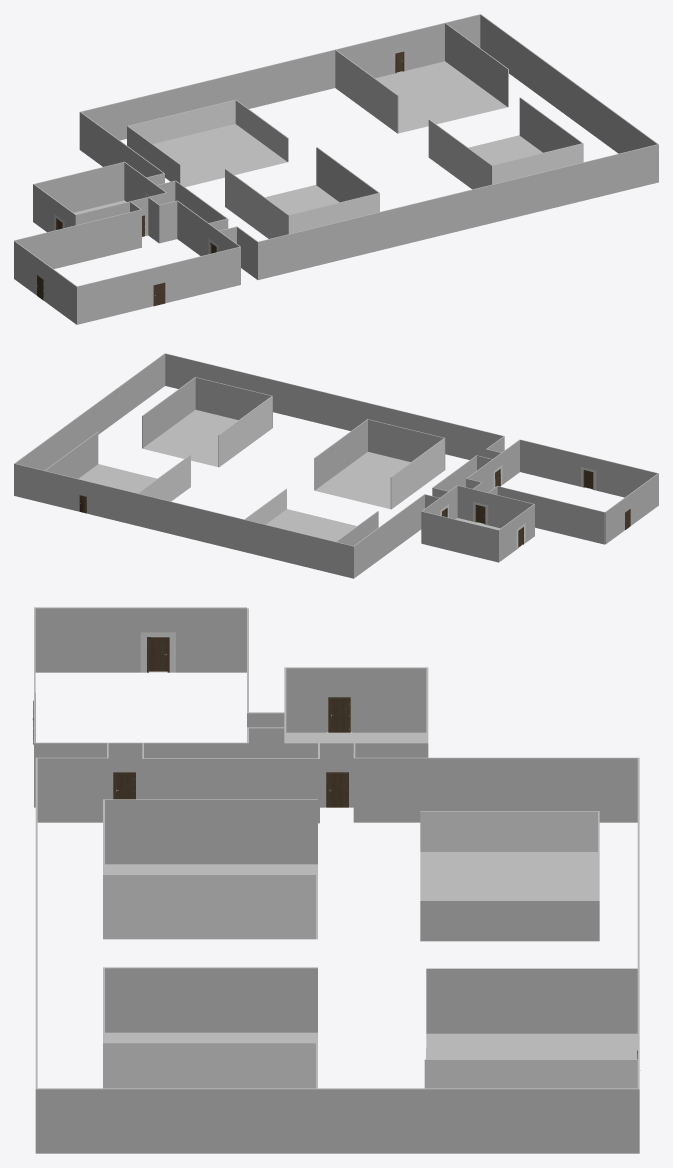
3 views of the same model, one above another, from view 1: azimuth 30°, elevation 25°; view 2: azimuth 150°, elevation 25°; view 3: azimuth 270°, elevation 25° (orthographic). The views are drawn at different scales.
Parts seen in each view (by area): view 1: Door.006, Door.022, Door.058, Wall.002, Wall.033, Wall.006, Wall.017, Wall.102, Wall.001; view 2: Door.006, Door.058, Door.022, Wall.102, Wall.001, Wall.033, Wall.017, Wall.006, Wall.002; view 3: Door.006, Door.058, Door.022, Wall.033, Wall.006, Wall.017, Wall.002, Wall.102, Wall.001, Wall.003, Door.007.
Part boxes in pixels (x1,y1,x2,y2): Door.006: (14, 14, 658, 324); Door.022: (428, 97, 583, 189); Door.058: (225, 147, 379, 238); Wall.002: (375, 61, 507, 133); Wall.033: (335, 23, 508, 133); Wall.006: (127, 99, 288, 183); Wall.017: (153, 124, 287, 187); Wall.102: (265, 185, 339, 214); Wall.001: (469, 135, 542, 164); Door.006: (14, 353, 658, 578); Door.058: (314, 419, 445, 509); Door.022: (142, 377, 272, 467); Wall.102: (314, 452, 410, 509); Wall.001: (142, 409, 238, 466); Wall.033: (45, 431, 190, 501); Wall.017: (266, 509, 356, 541); Wall.006: (244, 488, 378, 545); Wall.002: (78, 464, 156, 493); Door.006: (34, 607, 640, 1153); Door.058: (103, 799, 317, 939); Door.022: (103, 967, 317, 1088); Wall.033: (424, 968, 637, 1088); Wall.006: (420, 811, 599, 941); Wall.017: (420, 852, 597, 900); Wall.002: (426, 1033, 637, 1059); Wall.102: (105, 864, 317, 939); Wall.001: (105, 1032, 317, 1088); Wall.003: (286, 732, 426, 742); Door.007: (321, 692, 357, 732).
Bounding box in the file's own units: 6426 × 400 × 3422.
